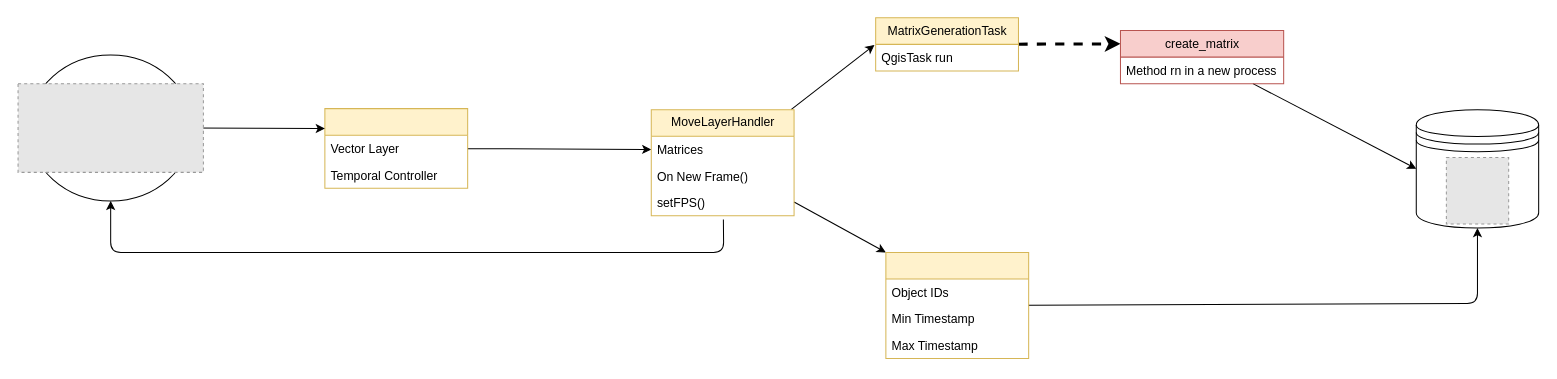
Image size: 1557x379. Some labels were removed from this diagram. Grey dashed boxes stand in for pictures. The shapes that lost their labels are listed below. From the top down, each one's box as (x1, y1, x2, y2) in pixels, then its label:
(324, 108, 468, 188): MoveLayerController
(885, 251, 1029, 359): MoveDatabaseConnector
